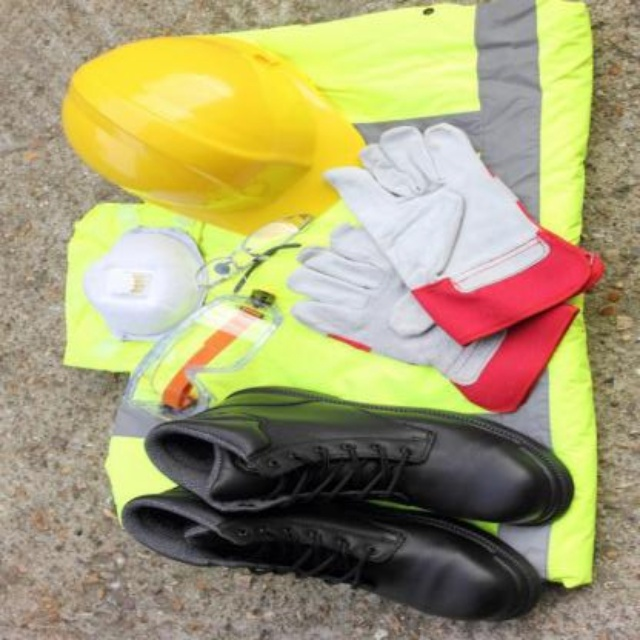yellow-helm: (55, 28, 354, 244)
